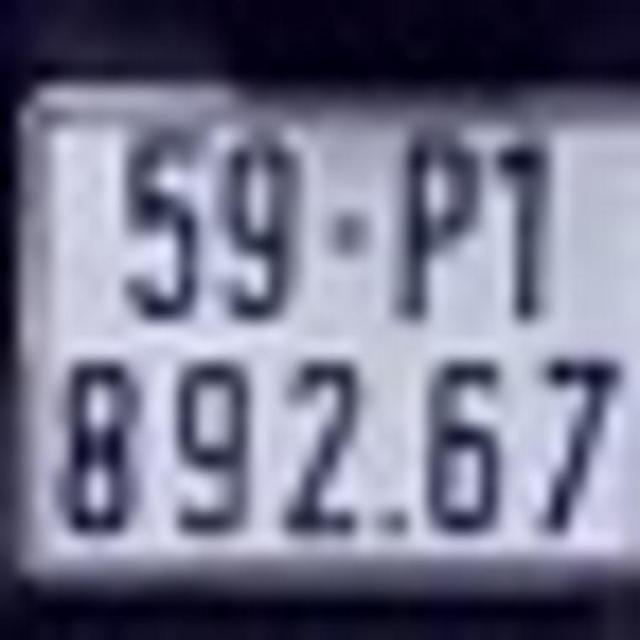1: (494, 138, 554, 324)
2: (285, 358, 359, 536)
5: (122, 132, 202, 324)
6: (427, 358, 500, 532)
7: (540, 352, 620, 535)
8: (62, 360, 141, 537)
9: (220, 136, 302, 322), (176, 360, 250, 535)
P: (398, 126, 478, 326)
